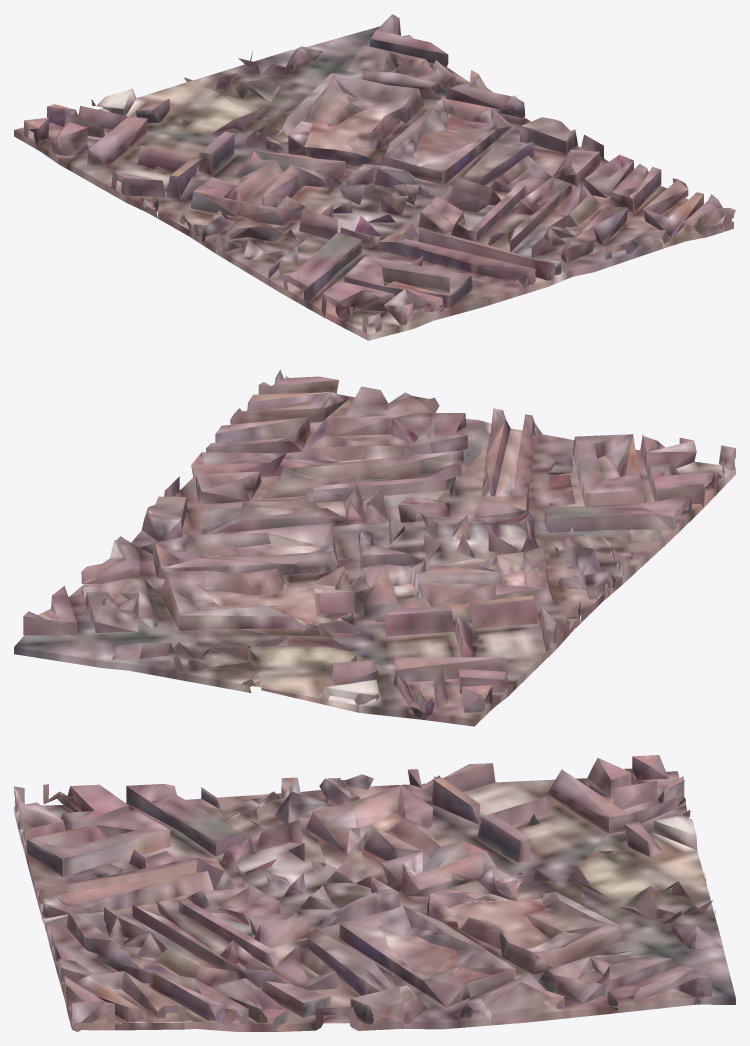
The picture shows the model from 3 angles, top to bottom: view 1: azimuth 30°, elevation 25°; view 2: azimuth 150°, elevation 25°; view 3: azimuth 270°, elevation 25°; orthographic projection. The views are drawn at different scales.
Parts seen in each view (by area): view 1: Mesh_0; view 2: Mesh_0; view 3: Mesh_0.
Boxes of the visible parts, x1,y1,x2,y2 form: Mesh_0: [14, 14, 735, 340]; Mesh_0: [14, 369, 735, 726]; Mesh_0: [14, 755, 735, 1031].
Size of the model in its own units: 535 by 51.83 by 659.
2 materials, 2 textured.
